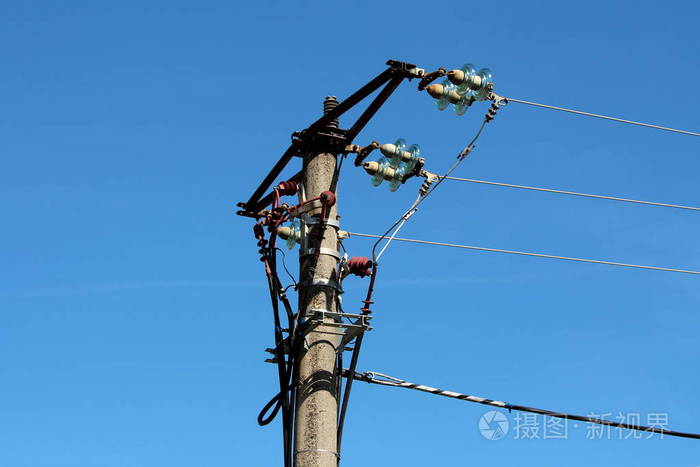insulator: (454, 61, 492, 99), (431, 81, 472, 115), (384, 142, 423, 173), (366, 160, 405, 191)
